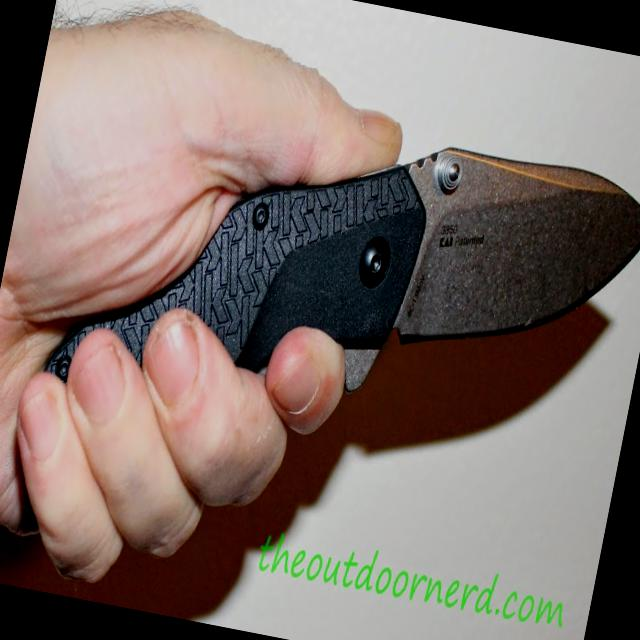knife: (86, 43, 639, 579)
